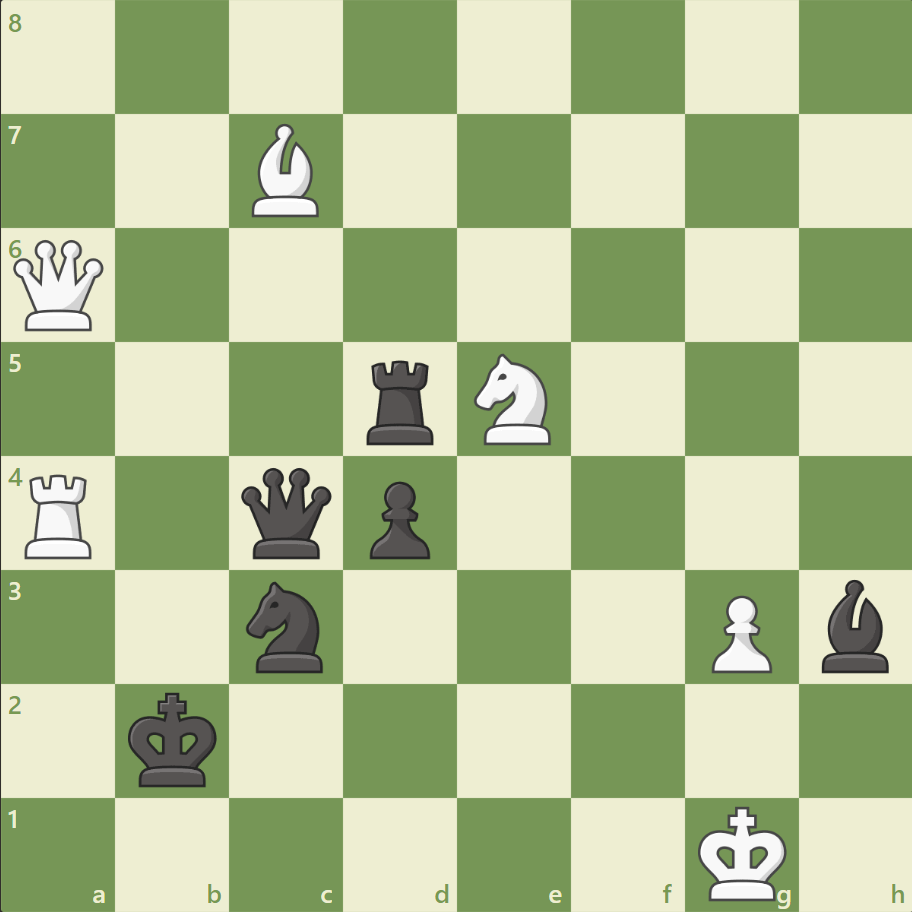B: (251, 125, 330, 229)
K: (691, 807, 794, 909)
N: (473, 354, 562, 455)
P: (709, 589, 781, 674)
Q: (14, 240, 115, 341)
R: (24, 467, 103, 567)
b: (819, 579, 897, 683)
k: (128, 694, 226, 795)
n: (246, 581, 335, 682)
p: (369, 476, 441, 560)
q: (241, 467, 342, 568)
r: (365, 354, 443, 454)
